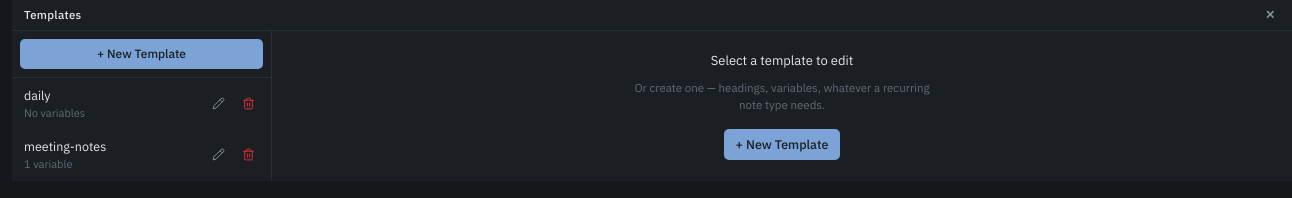
TemplatesScreen (M10.27 Journey A, first-class screen) › renames a template via the inline rename affordance
Expected: the text "meeting-notes" is shown, [24,138,106,154]
Click the button named "Rename template \"meeting-notes\"" at (218, 155), box [212,148,224,161]
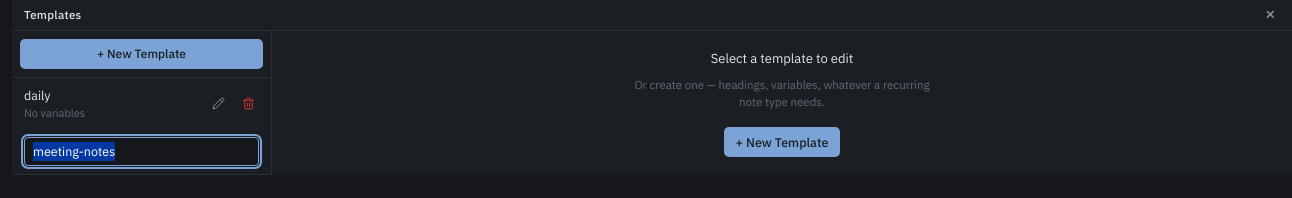
Replace the text in the field named "Rename template \"meeting-notes\"" with "standup-notes" at (142, 152), box [24,137,259,166]
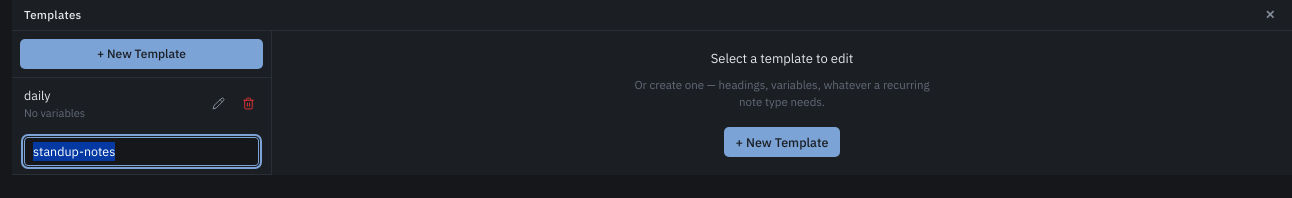
Press Enter in the field named "Rename template \"meeting-notes\"", box [24,137,259,166]
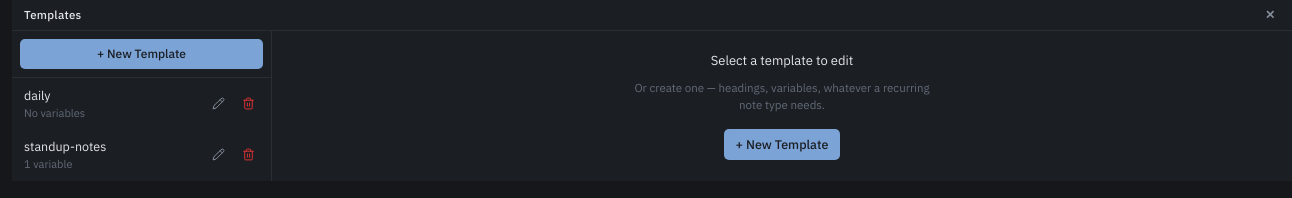
Expected: the button "meeting-notes" is not shown
Expected: the text "standup-notes" is shown, [24,138,106,154]
